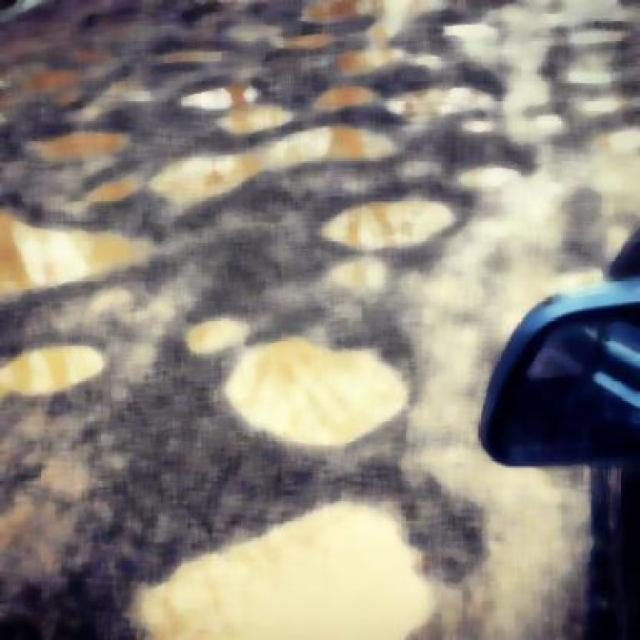Pothole: (102, 482, 500, 640), (146, 110, 400, 218), (232, 325, 414, 452), (0, 171, 146, 315), (0, 342, 154, 448), (322, 184, 463, 270), (436, 144, 555, 208), (162, 79, 290, 132), (24, 117, 128, 158)
